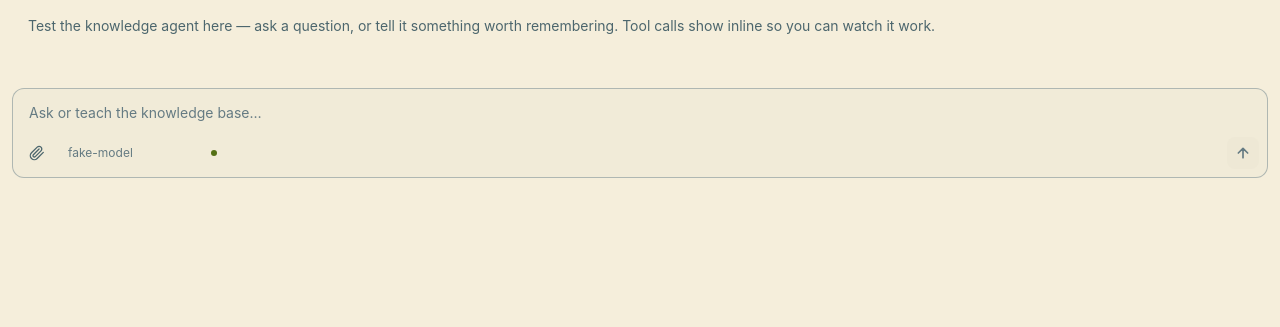
Scenario: ChatPanel › retries a failed request with the same message and model
In the field named "Model override": (133, 153) [61,140,205,166], type "other"
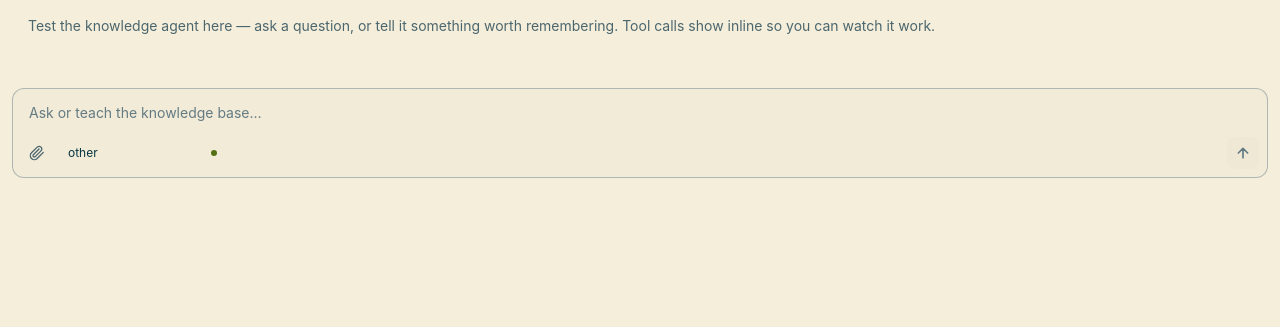
Click the field named "Message the agent": (640, 113) [13,89,1267,137]
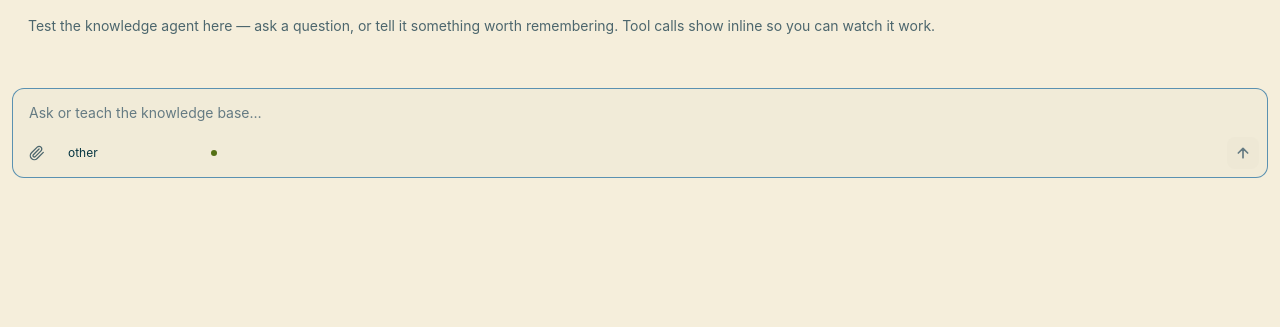
Type keys "Dana is on call"
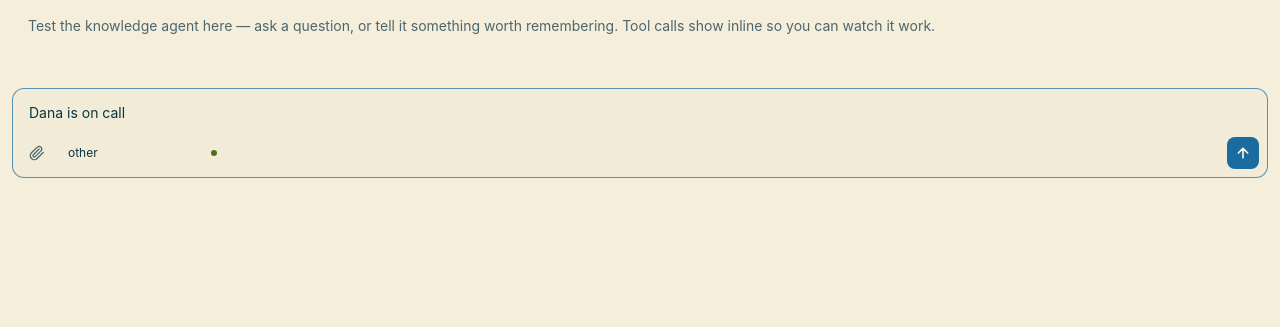
Click the button named "Send": (1243, 153) [1227,137,1259,169]
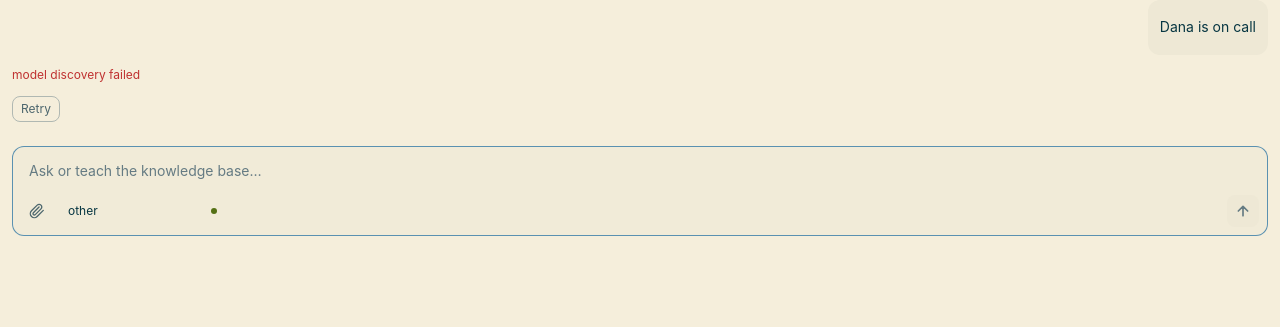
Now the message reads "model discovery failed", box [12,67,140,82]
Click the button "Retry": (36, 109) [12,96,60,122]
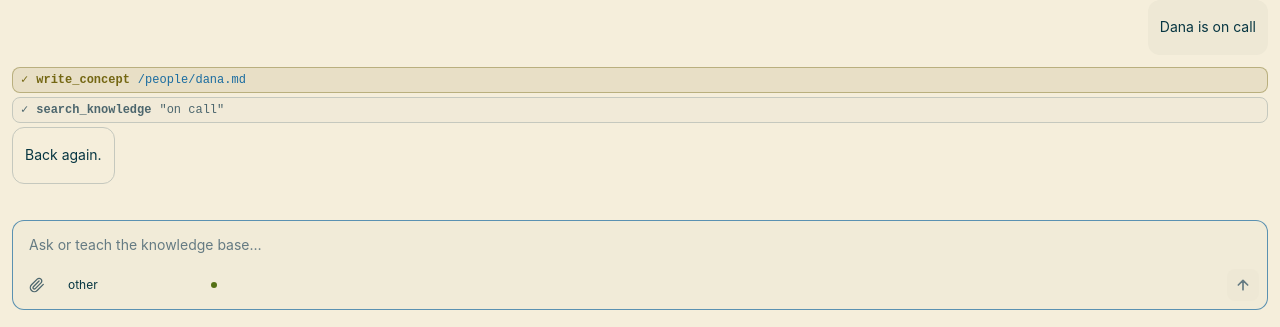
Now the text "Back again." is shown, box [25,144,102,167]
Now the message "model discovery failed" is gone
Now the button "Retry" is gone
